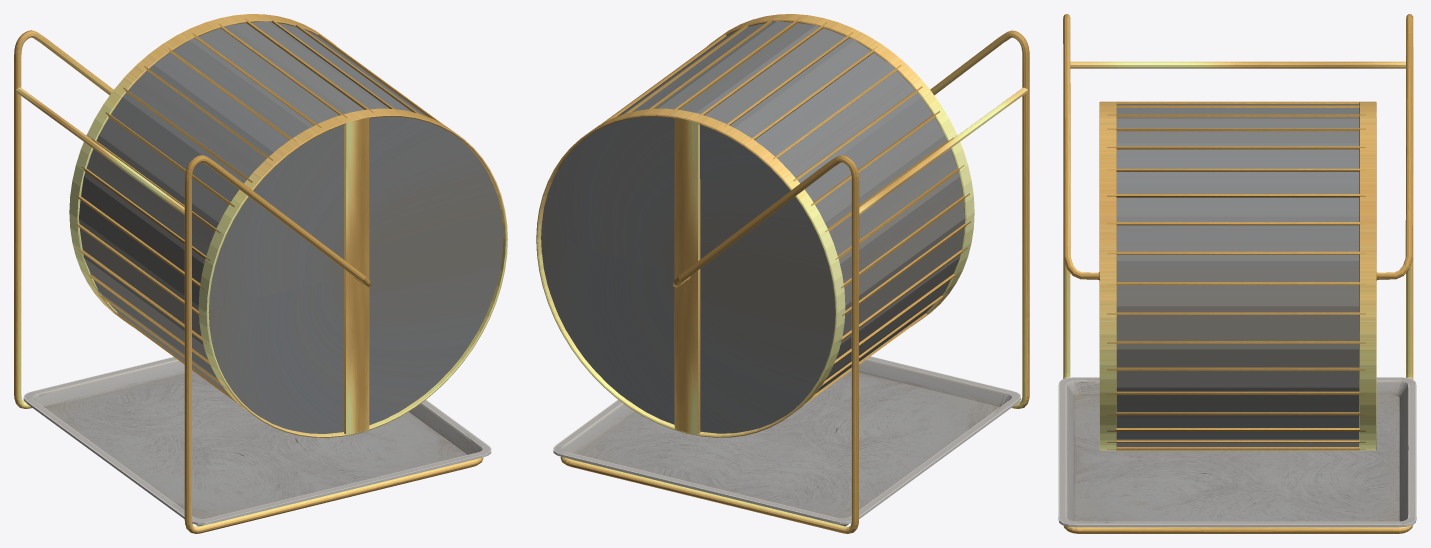
The model's file is P_Hamster_Wheel_04.obj.
The picture shows the model from 3 angles, left to right: view 1: azimuth 30°, elevation 25°; view 2: azimuth 150°, elevation 25°; view 3: azimuth 270°, elevation 25°; orthographic projection.
Size of the model in its own units: 2.02 by 2.15 by 1.84.
Materials: 6 (6 with a texture image).
